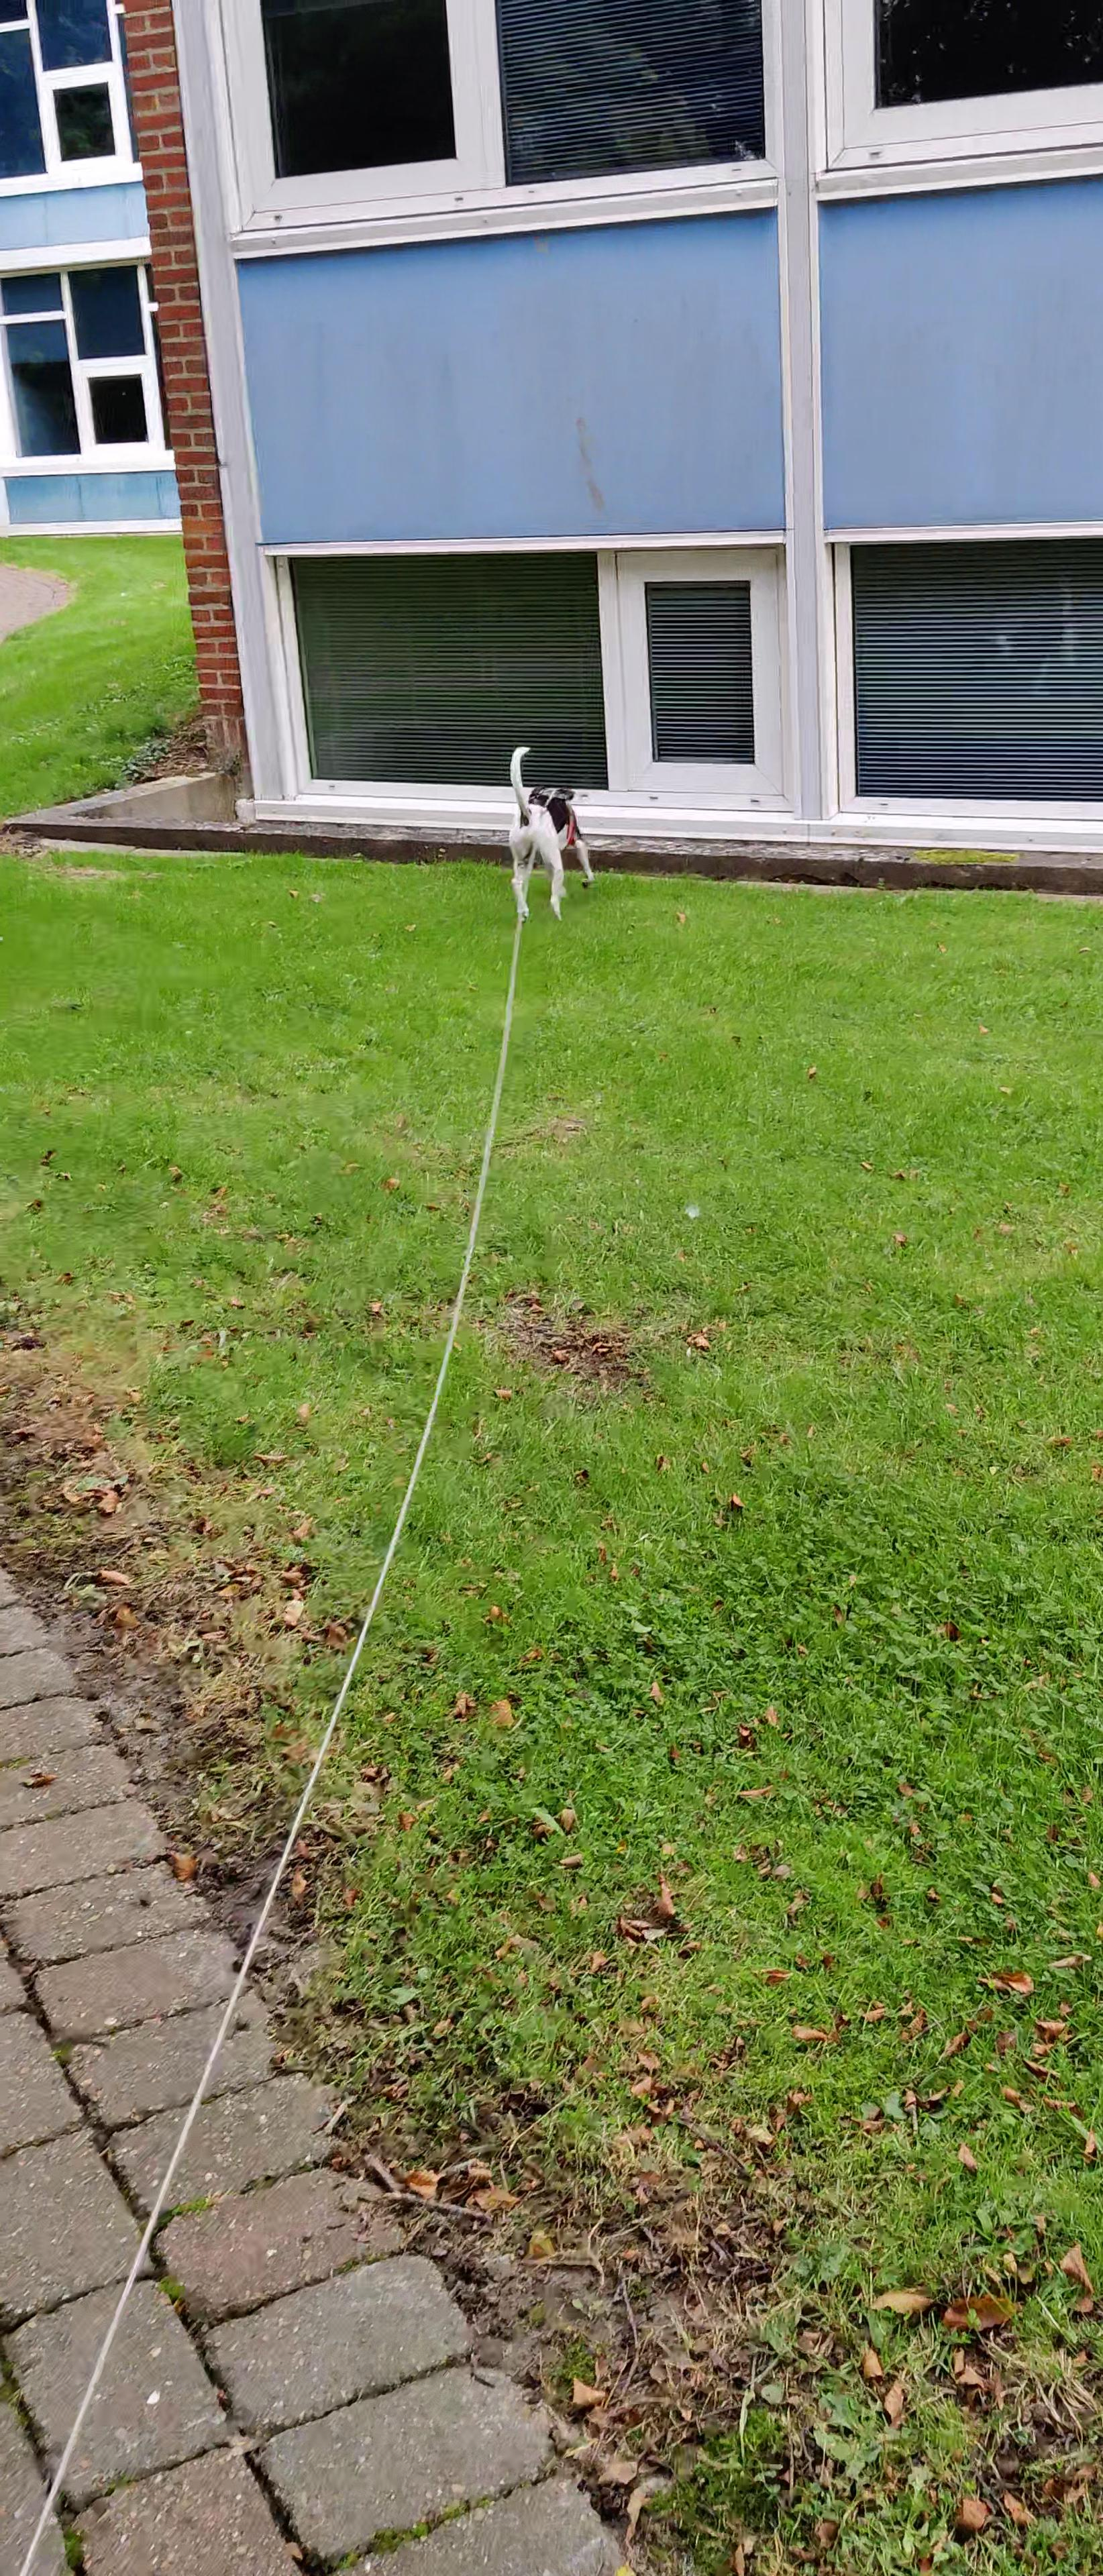Dog: (501, 744, 602, 922)
